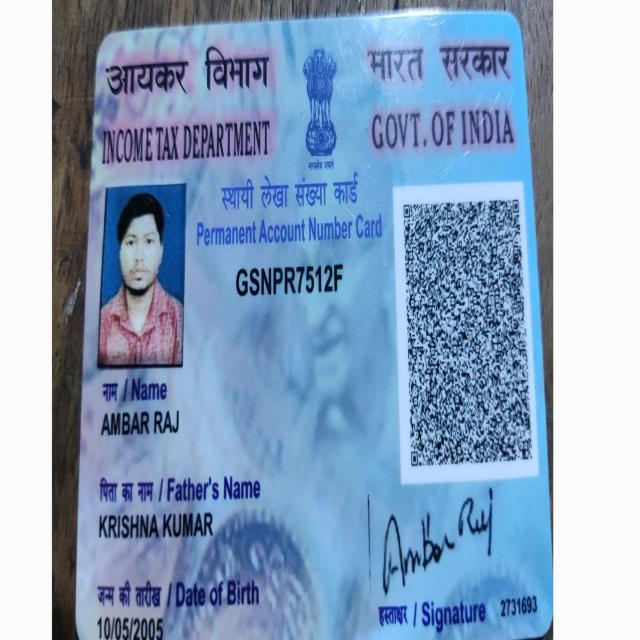pan_card: (77, 13, 549, 640)
